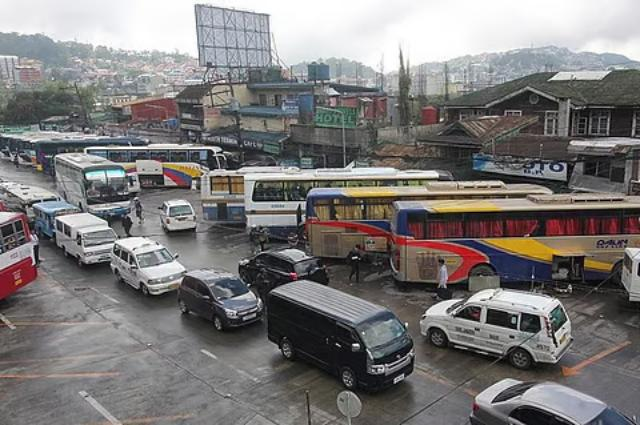bus: (383, 190, 638, 291), (307, 179, 538, 247), (87, 144, 220, 188), (55, 152, 136, 220), (242, 170, 311, 234), (202, 167, 250, 223)
car: (421, 285, 573, 368), (469, 378, 637, 424), (175, 267, 264, 330), (238, 247, 330, 304), (108, 236, 184, 294), (158, 199, 197, 233)
jeepney: (32, 200, 81, 240)
van: (264, 282, 419, 399), (54, 213, 116, 266)
